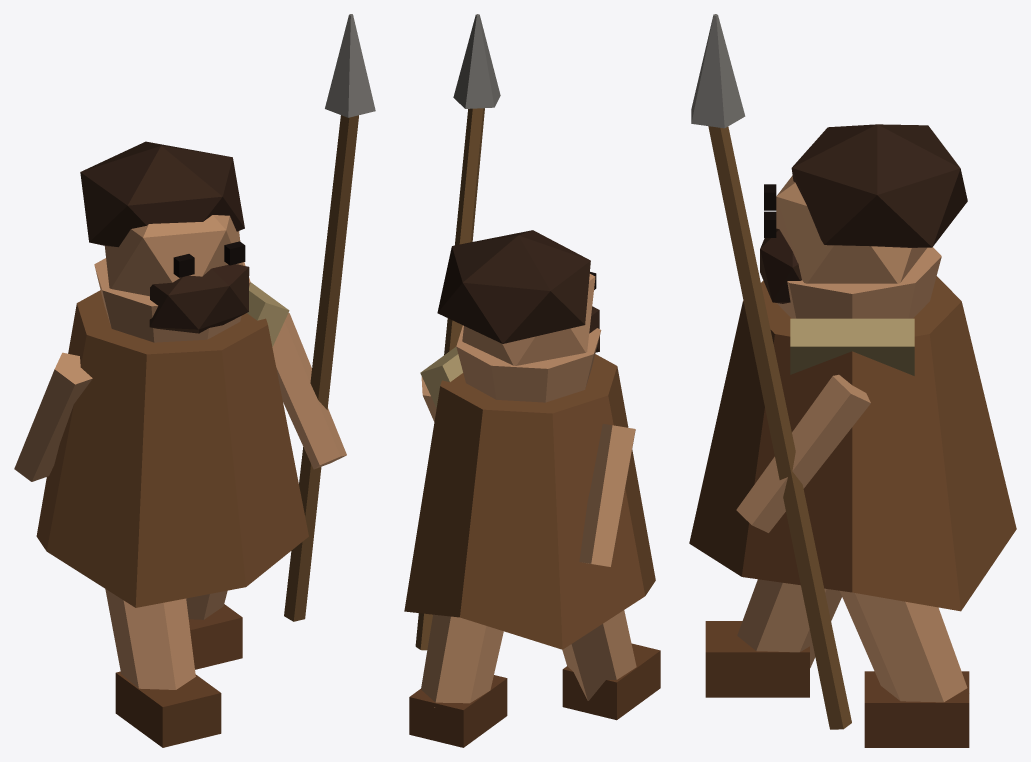
File: caveman_step.glb
3 views of the same model, side by side, from view 1: azimuth 30°, elevation 25°; view 2: azimuth 150°, elevation 25°; view 3: azimuth 270°, elevation 25° (orthographic). The views are drawn at different scales.
Parts seen in each view (by area): view 1: caveman_step; view 2: caveman_step; view 3: caveman_step.
Boxes of the visible parts, x1,y1,x2,y2 form: caveman_step: (14,14,375,747); caveman_step: (404,14,660,747); caveman_step: (689,14,1016,747).
Bounding box in the file's own units: 1.36 × 3.35 × 1.32.
